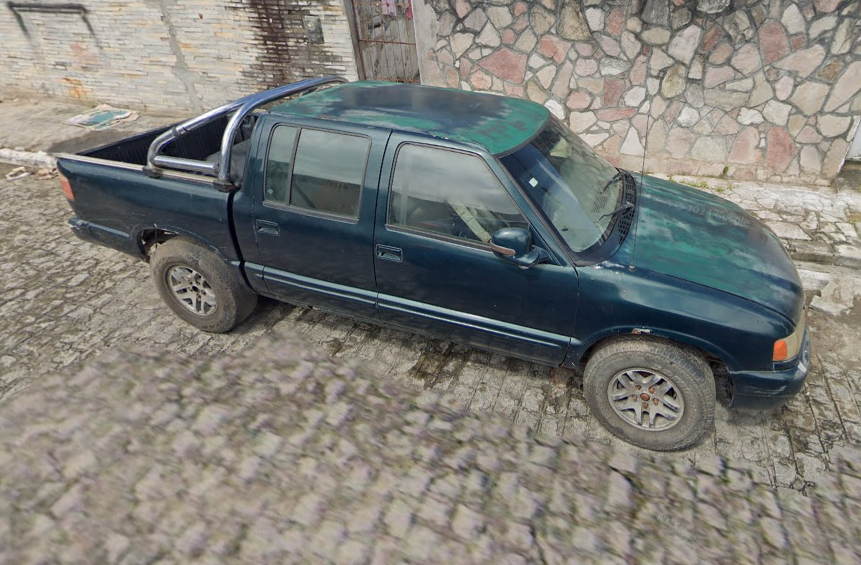car: (53, 76, 812, 452)
